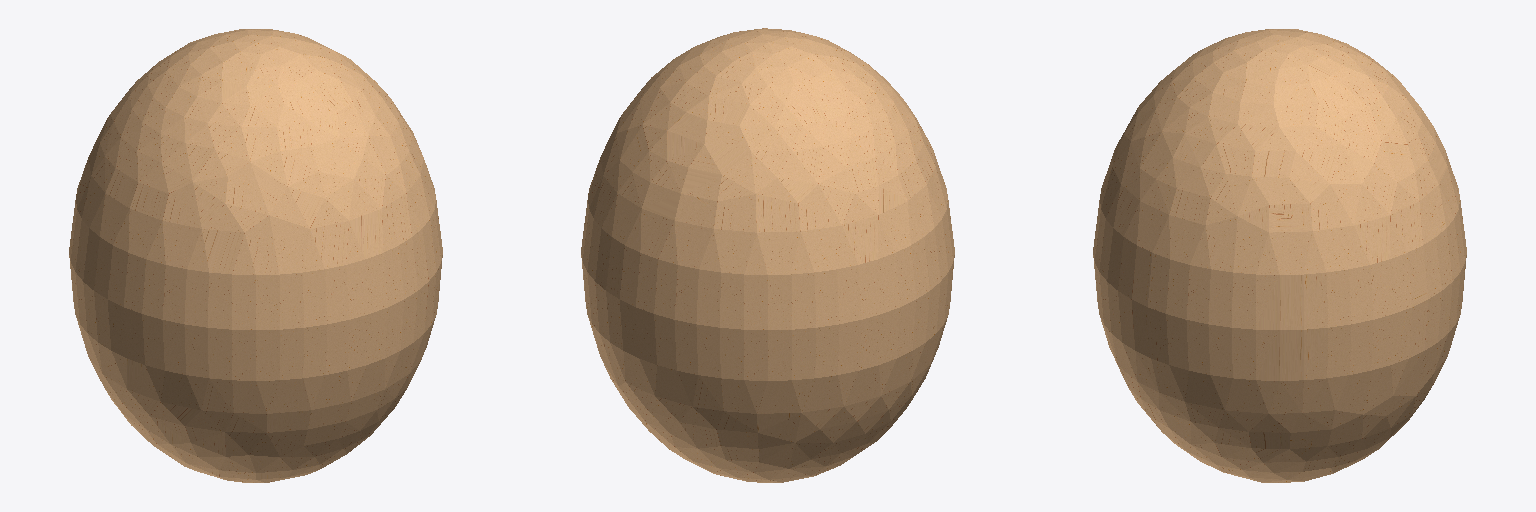
3 renders of one model, left to right at view 1: azimuth 30°, elevation 25°; view 2: azimuth 150°, elevation 25°; view 3: azimuth 270°, elevation 25°, orthographic.
Parts seen in each view (by area): view 1: ei; view 2: ei; view 3: ei.
Part boxes in pixels (x1,y1,x2,y2): ei: (69, 29, 442, 482); ei: (581, 28, 954, 482); ei: (1093, 29, 1466, 482).
Size of the model in its own units: 2.85 by 3.59 by 2.85.
Materials: 1 (1 with a texture image).